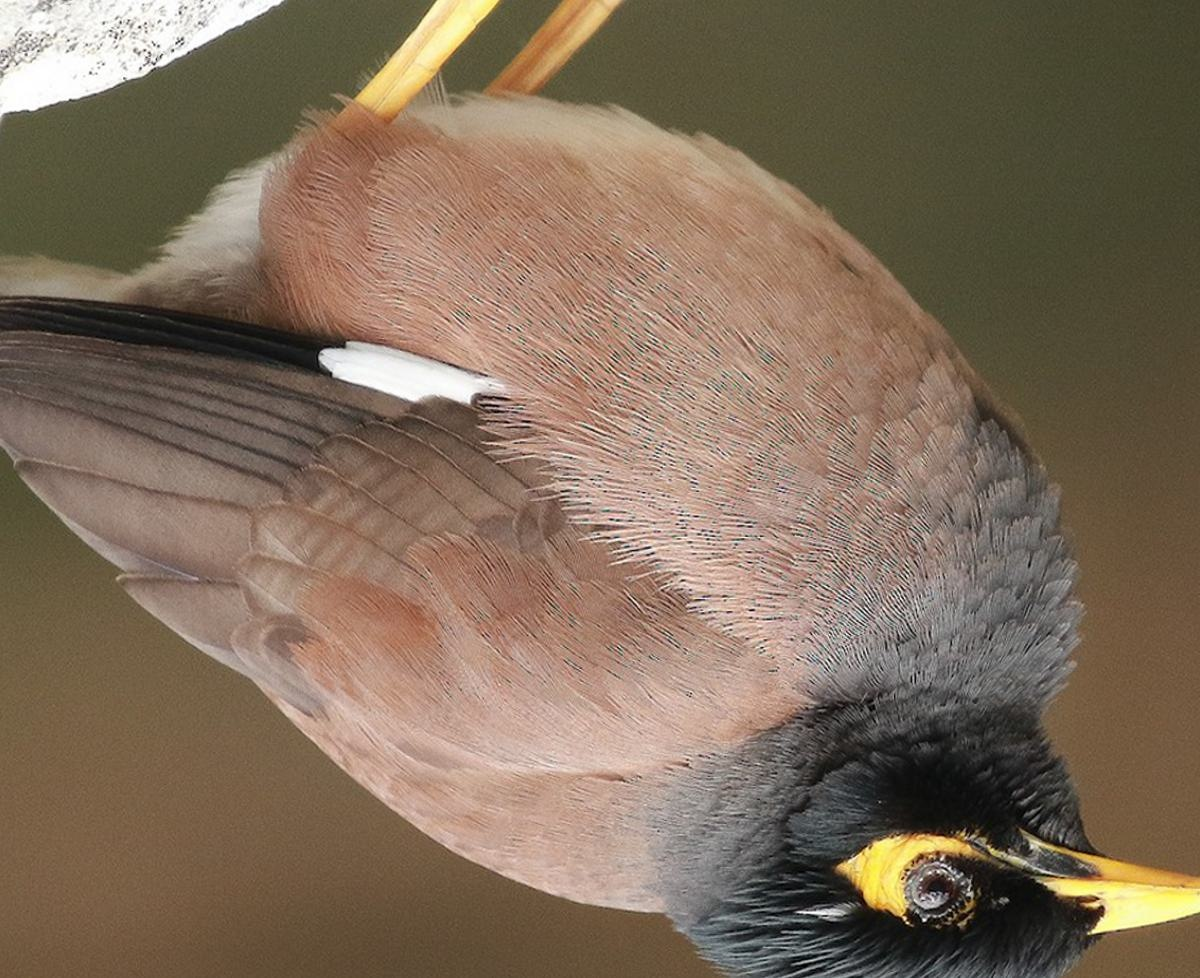myna: (34, 134, 1193, 978)
